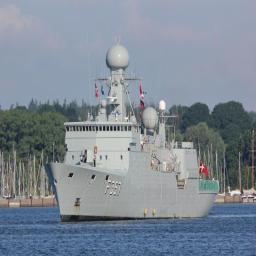Fragata: (43, 22, 224, 225)
